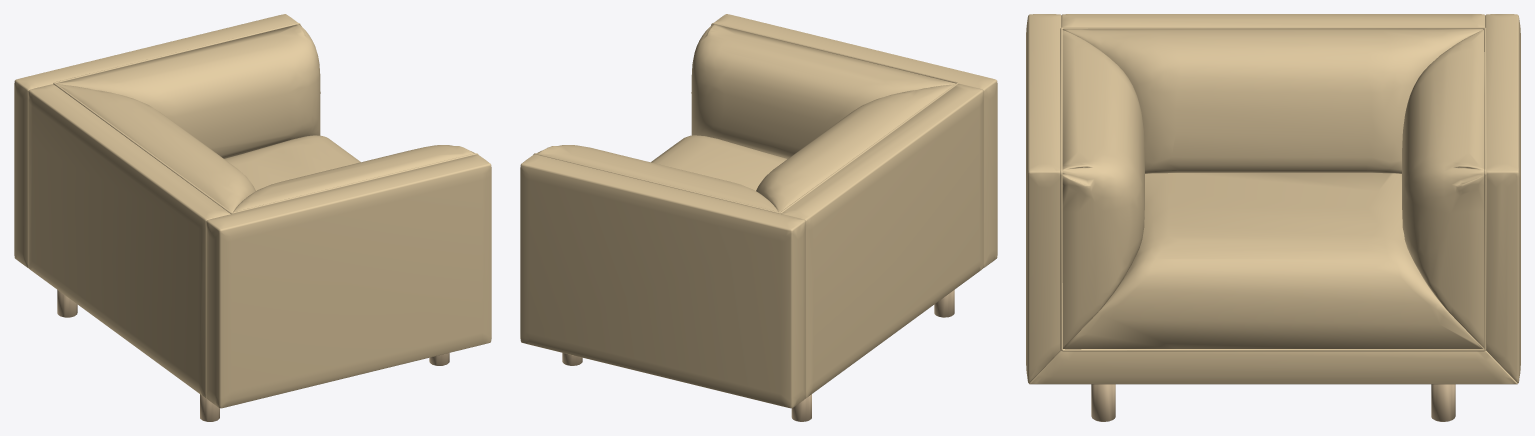
The model's file is HMI_Rolled_Arm_Club_Chair_3D.fbx.
3 renders of one model, left to right at view 1: azimuth 30°, elevation 25°; view 2: azimuth 150°, elevation 25°; view 3: azimuth 270°, elevation 25°, orthographic. The views are drawn at different scales.
Parts seen in each view (by area): view 1: Group1; view 2: Group1; view 3: Group1.
Part boxes in pixels (x1,y1,x2,y2): Group1: [14, 14, 491, 421]; Group1: [520, 14, 997, 421]; Group1: [1026, 14, 1520, 421].
Bounding box in the file's own units: 399 × 305 × 520.
